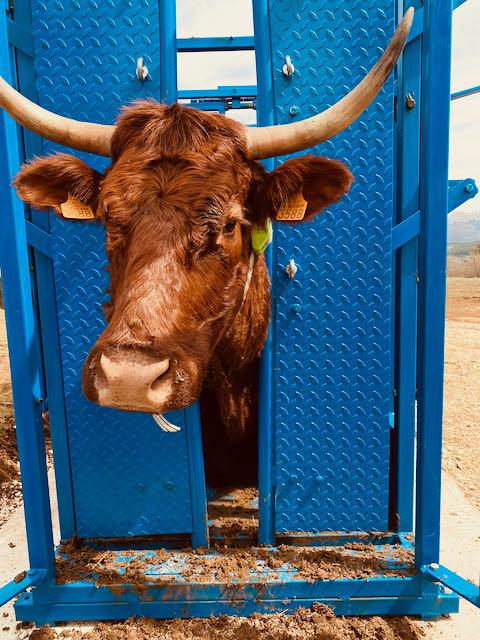muzzles: (73, 340, 209, 420)
